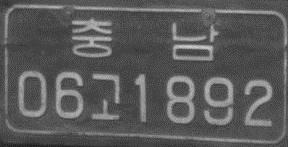0: (16, 70, 48, 117)
1: (128, 73, 157, 122)
2: (243, 78, 273, 128)
6: (55, 71, 85, 119)
8: (166, 74, 196, 124)
9: (202, 76, 234, 125)
고: (90, 71, 121, 121)
충남_D: (70, 17, 219, 61)
